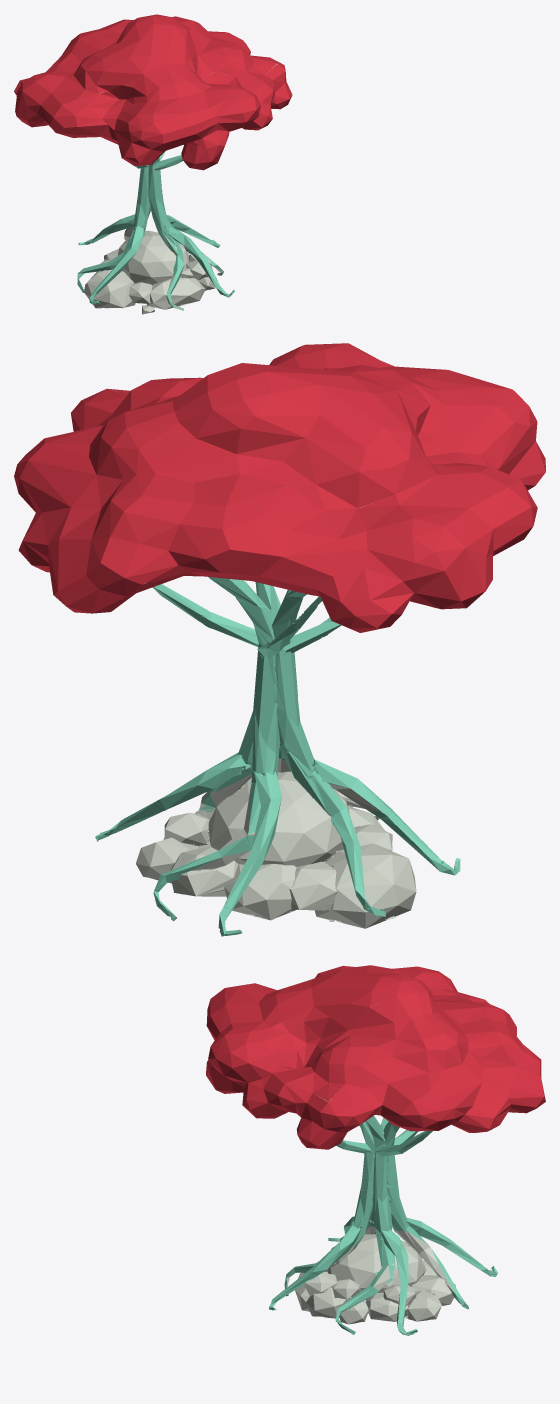
File: Big Tree.fbx
The picture shows the model from 3 angles, top to bottom: view 1: azimuth 30°, elevation 25°; view 2: azimuth 150°, elevation 25°; view 3: azimuth 270°, elevation 25°; orthographic projection. The views are drawn at different scales.
Visible parts, largest first — view 1: Icosphere.002; view 2: Icosphere.002; view 3: Icosphere.002.
Boxes of the visible parts, <box> form: Icosphere.002: <box>14,14,292,314</box>; Icosphere.002: <box>14,343,545,936</box>; Icosphere.002: <box>206,965,545,1335</box>.
Size of the model in its own units: 1479 by 1005 by 1456.
